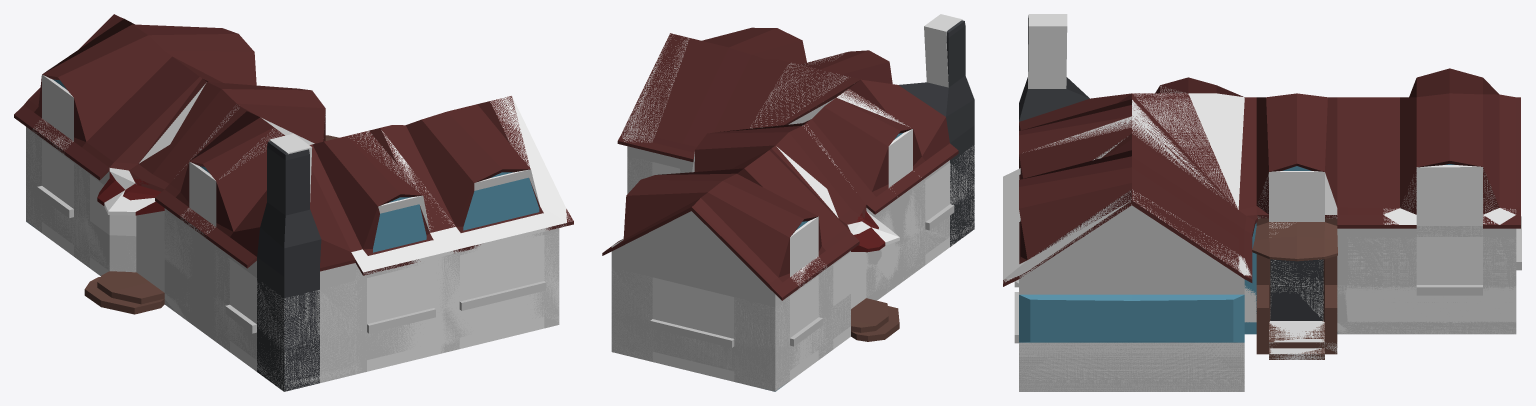
The model's file is m_House3.fbx.
3 renders of one model, left to right at view 1: azimuth 30°, elevation 25°; view 2: azimuth 150°, elevation 25°; view 3: azimuth 270°, elevation 25°, orthographic. The views are drawn at different scales.
Parts seen in each view (by area): view 1: M_House3.001, M_House3; view 2: M_House3.001, M_House3; view 3: M_House3.001, M_House3.
Boxes of the visible parts, x1=… form: M_House3.001: x1=14, y1=14, x2=573, y2=391; M_House3: x1=26, y1=74, x2=572, y2=391; M_House3.001: x1=602, y1=20, x2=974, y2=391; M_House3: x1=611, y1=14, x2=974, y2=391; M_House3.001: x1=1003, y1=15, x2=1521, y2=391; M_House3: x1=1003, y1=14, x2=1516, y2=391.
Bounding box in the file's own units: 847 × 571 × 1101.
1 material, 1 textured.
